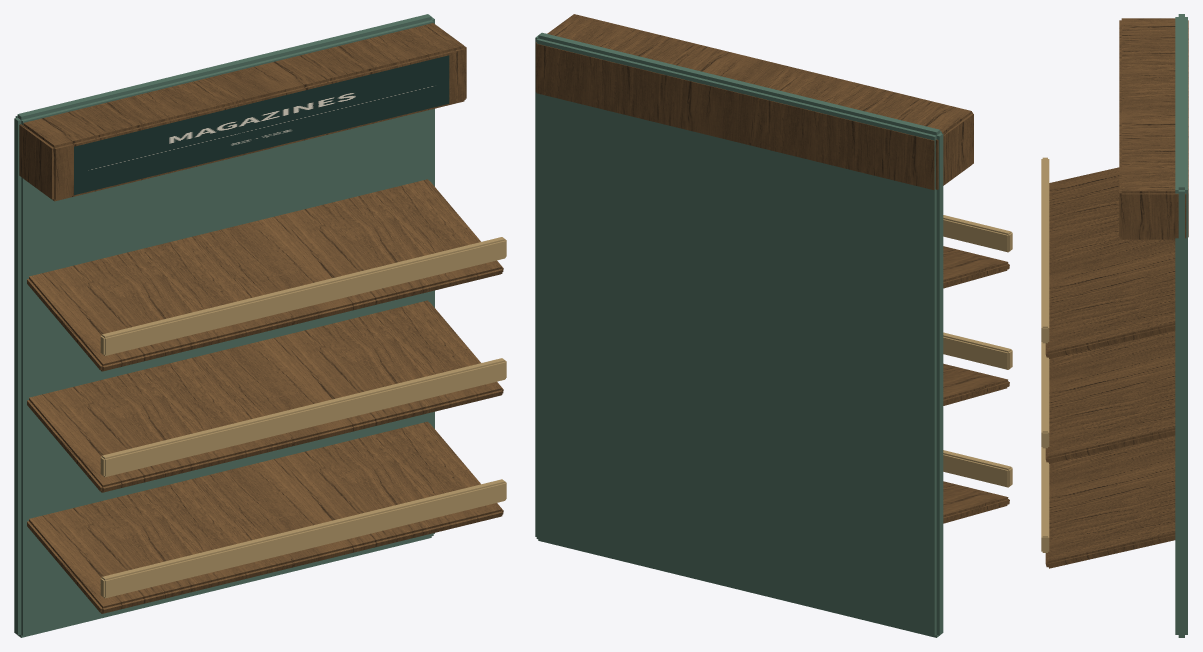
The model's file is fixture_v25_magazine.glb.
3 renders of one model, left to right at view 1: azimuth 30°, elevation 25°; view 2: azimuth 150°, elevation 25°; view 3: azimuth 270°, elevation 25°, orthographic. The views are drawn at different scales.
Parts seen in each view (by area): view 1: fixture_v25_magazine_CC0_Oak_veneer, fixture_v25_magazine_V25_cafe_sage, fixture_v25_magazine_Satin_champagne, fixture_v25_magazine_magazine-sign; view 2: fixture_v25_magazine_V25_cafe_sage, fixture_v25_magazine_CC0_Oak_veneer, fixture_v25_magazine_Satin_champagne; view 3: fixture_v25_magazine_CC0_Oak_veneer, fixture_v25_magazine_V25_cafe_sage, fixture_v25_magazine_Satin_champagne.
Part boxes in pixels (x1=…): fixture_v25_magazine_CC0_Oak_veneer: x1=19, y1=23, x2=503, y2=613; fixture_v25_magazine_V25_cafe_sage: x1=14, y1=14, x2=434, y2=637; fixture_v25_magazine_Satin_champagne: x1=100, y1=237, x2=506, y2=598; fixture_v25_magazine_magazine-sign: x1=74, y1=55, x2=449, y2=195; fixture_v25_magazine_V25_cafe_sage: x1=535, y1=32, x2=943, y2=637; fixture_v25_magazine_CC0_Oak_veneer: x1=535, y1=14, x2=1009, y2=523; fixture_v25_magazine_Satin_champagne: x1=943, y1=215, x2=1012, y2=487; fixture_v25_magazine_CC0_Oak_veneer: x1=1045, y1=18, x2=1188, y2=568; fixture_v25_magazine_V25_cafe_sage: x1=1175, y1=14, x2=1187, y2=637; fixture_v25_magazine_Satin_champagne: x1=1041, y1=157, x2=1049, y2=552.
Size of the model in its own units: 1.8 by 2.15 by 0.6375.
4 materials, 2 textured.
